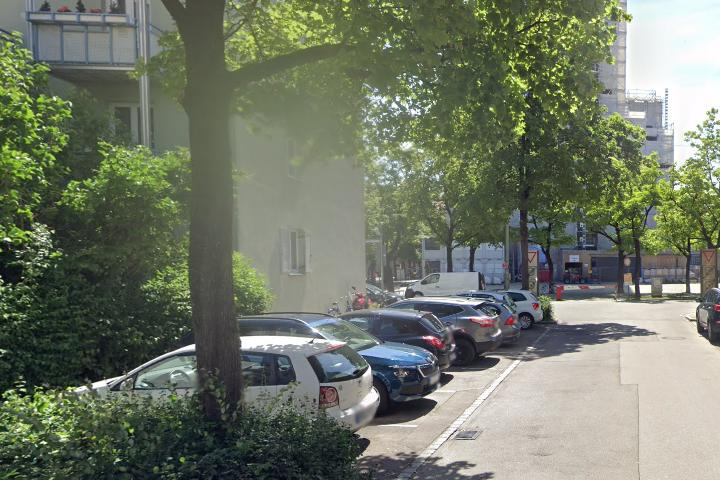traffic_sign: (702, 250, 716, 263), (524, 251, 537, 264)
vehicle: (45, 331, 387, 454), (401, 271, 488, 300)
